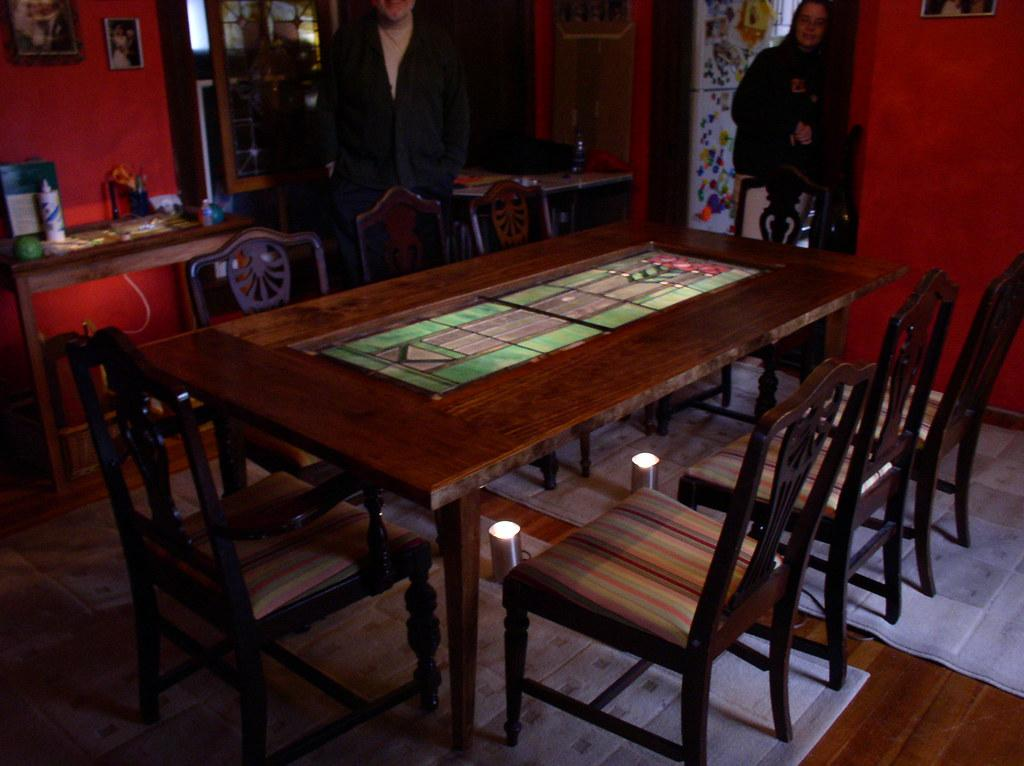table: (122, 217, 911, 752)
